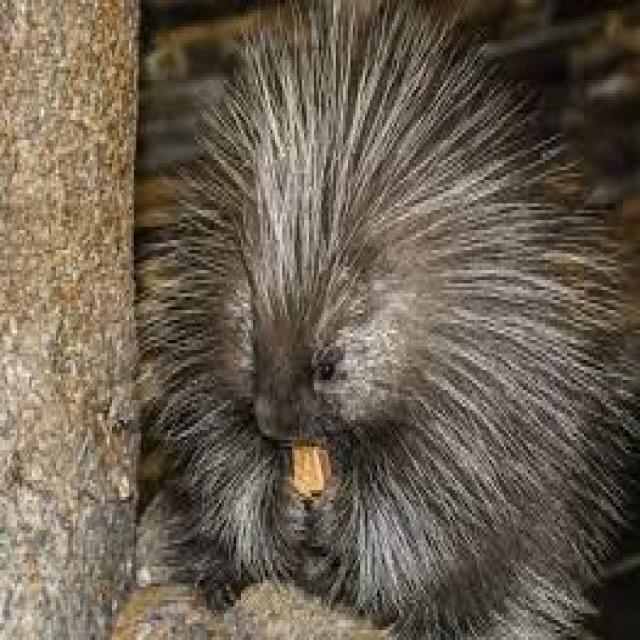Porcupine: (152, 29, 606, 640)
